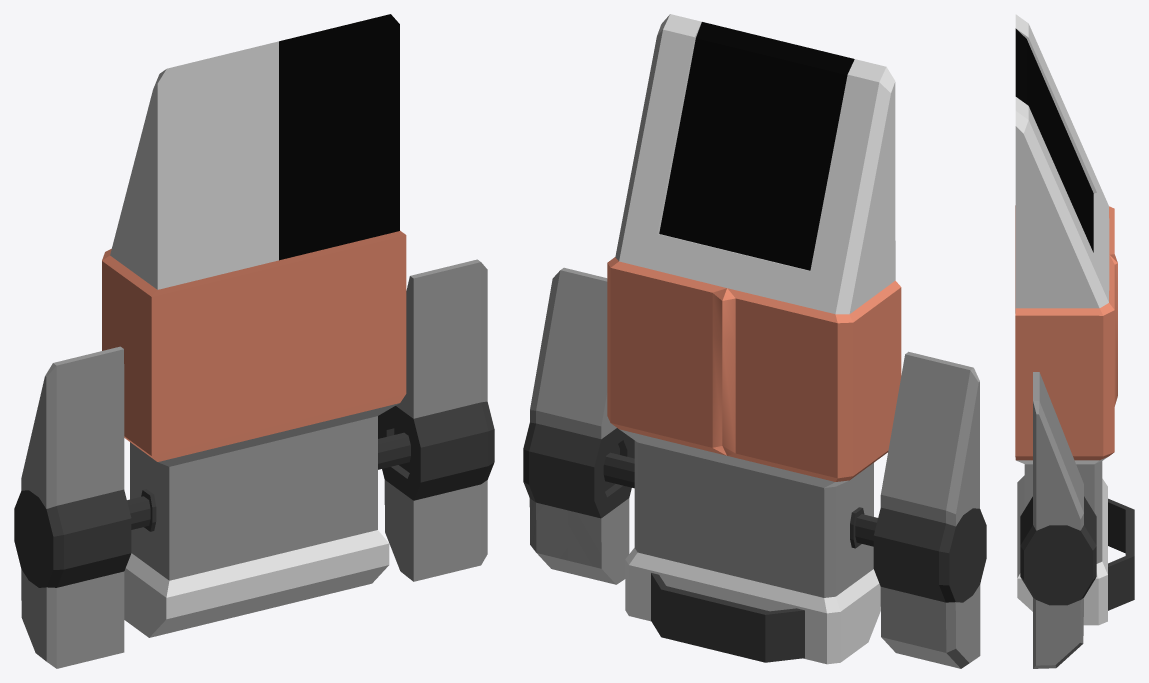
The model's file is Speeder.fbx.
The picture shows the model from 3 angles, left to right: view 1: azimuth 30°, elevation 25°; view 2: azimuth 150°, elevation 25°; view 3: azimuth 270°, elevation 25°; orthographic projection. The views are drawn at different scales.
Visible parts, largest first — view 1: Куб.005; view 2: Куб.005; view 3: Куб.005.
Boxes of the visible parts, left/top/right/bottom form: Куб.005: left=14, top=14, right=494, bottom=668; Куб.005: left=523, top=14, right=986, bottom=668; Куб.005: left=1015, top=14, right=1134, bottom=668.
Bounding box in the file's own units: 731 × 923 × 193.
